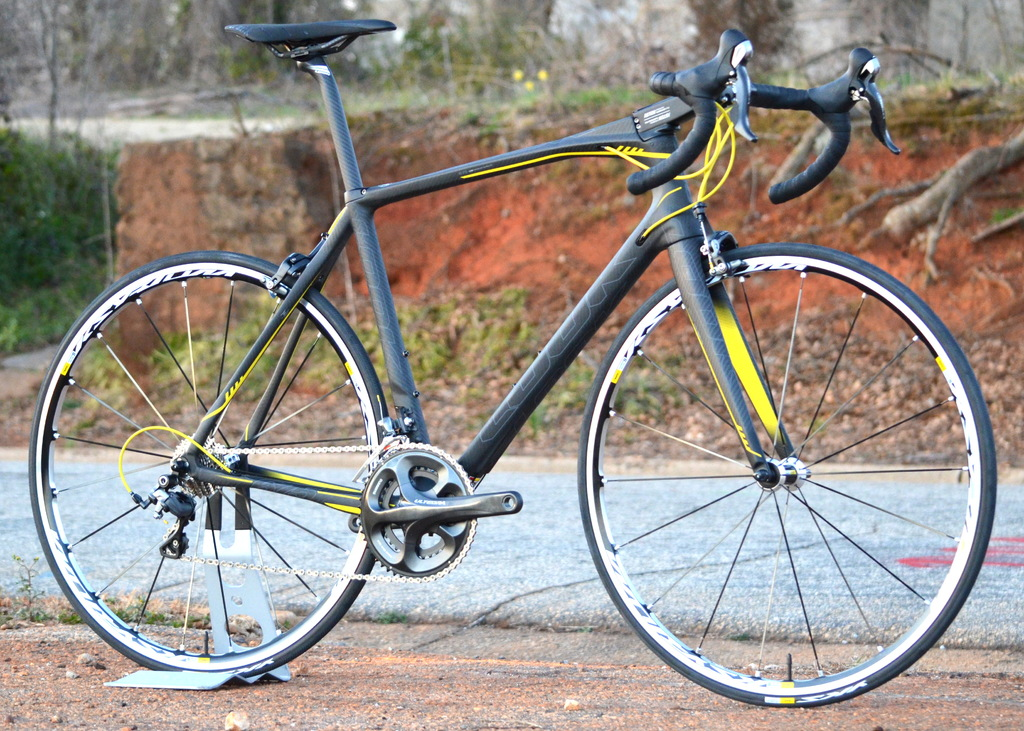Bike: (31, 19, 997, 704)
